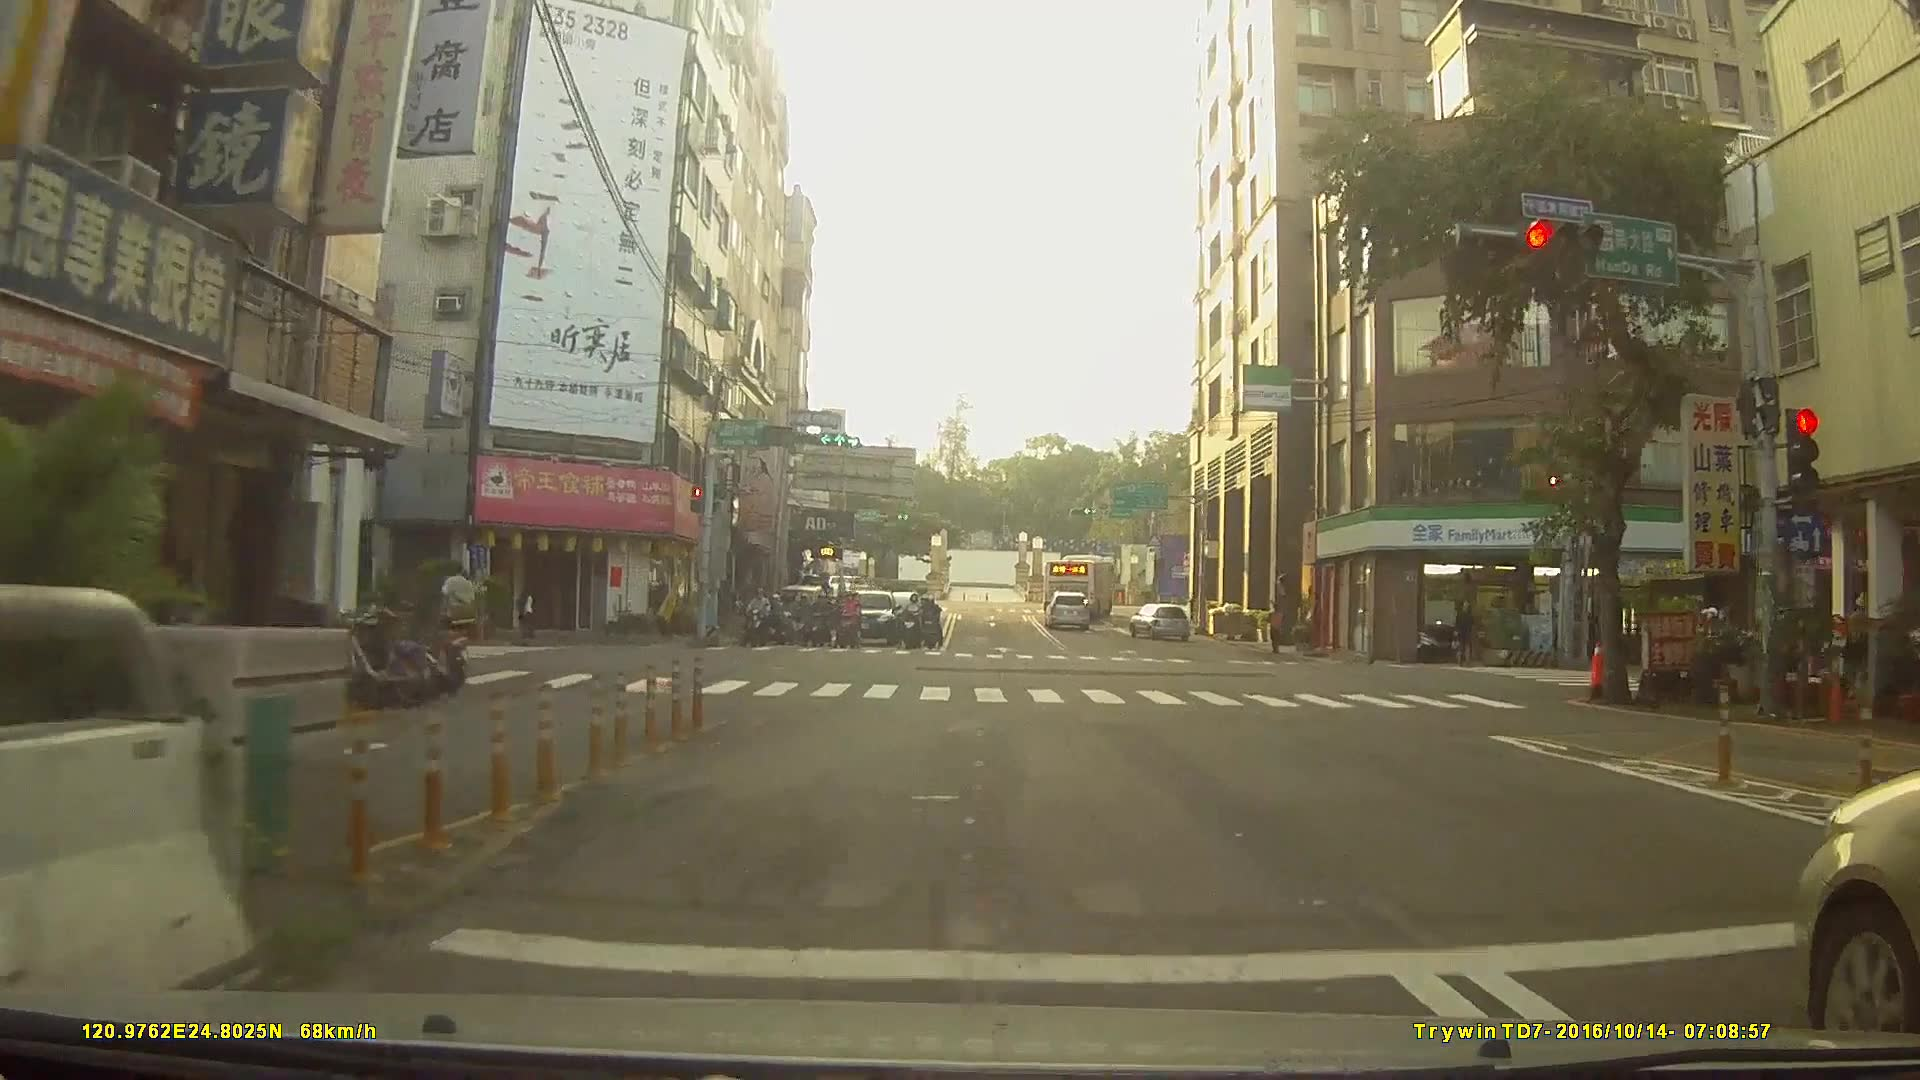pedestrian: (434, 561, 483, 669), (1455, 598, 1477, 668), (519, 587, 539, 646), (1268, 602, 1288, 657)
rider: (741, 588, 772, 652), (832, 593, 862, 655), (810, 591, 835, 650), (775, 591, 802, 646), (899, 590, 923, 650), (919, 602, 942, 658)
vehicle: (1041, 550, 1117, 617), (836, 586, 899, 648), (1126, 600, 1189, 641), (1042, 590, 1093, 629)
